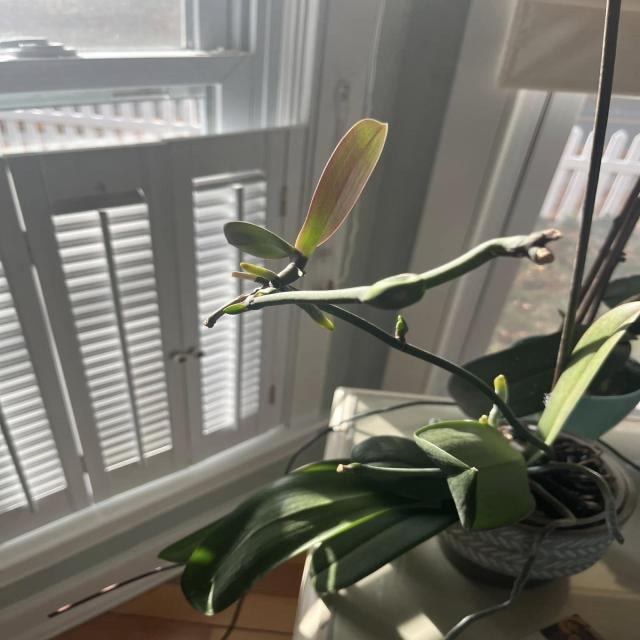leaf: (162, 490, 383, 610), (538, 301, 639, 445), (299, 120, 386, 254), (435, 421, 533, 529), (330, 508, 452, 587), (226, 222, 304, 262)
plant: (139, 112, 640, 640)
pot: (449, 426, 637, 595)
root: (443, 520, 559, 640), (554, 461, 621, 540)
stem: (221, 229, 560, 454)
